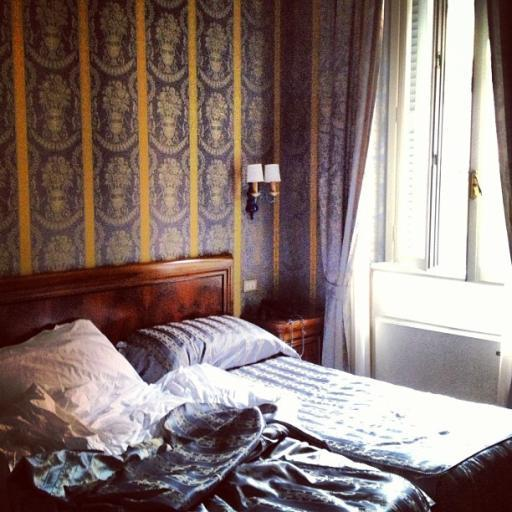bed: (0, 236, 507, 512)
